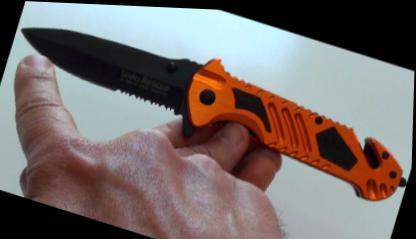knife: (0, 0, 269, 158)
